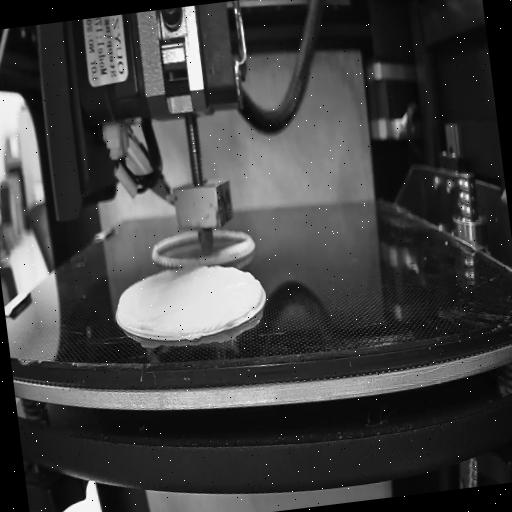over_extrusion: (243, 267, 264, 307)
